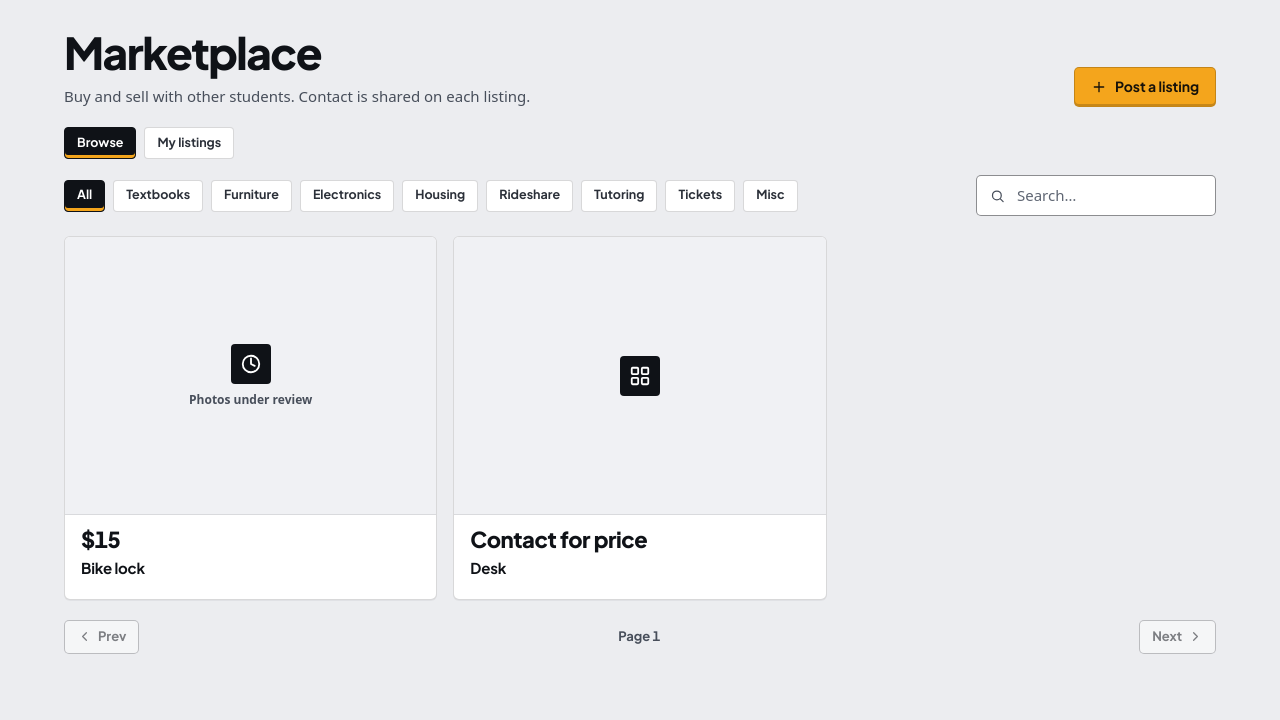
Test case: shows other students a placeholder instead of photos that wait for review, on the card and the detail
This screenshot has width=1280, height=720.
Expected: the text "Photos under review" is shown, x1=181 y1=392 x2=320 y2=407
Click the heading "Bike lock" at (113, 569), box x1=81 y1=559 x2=145 y2=579
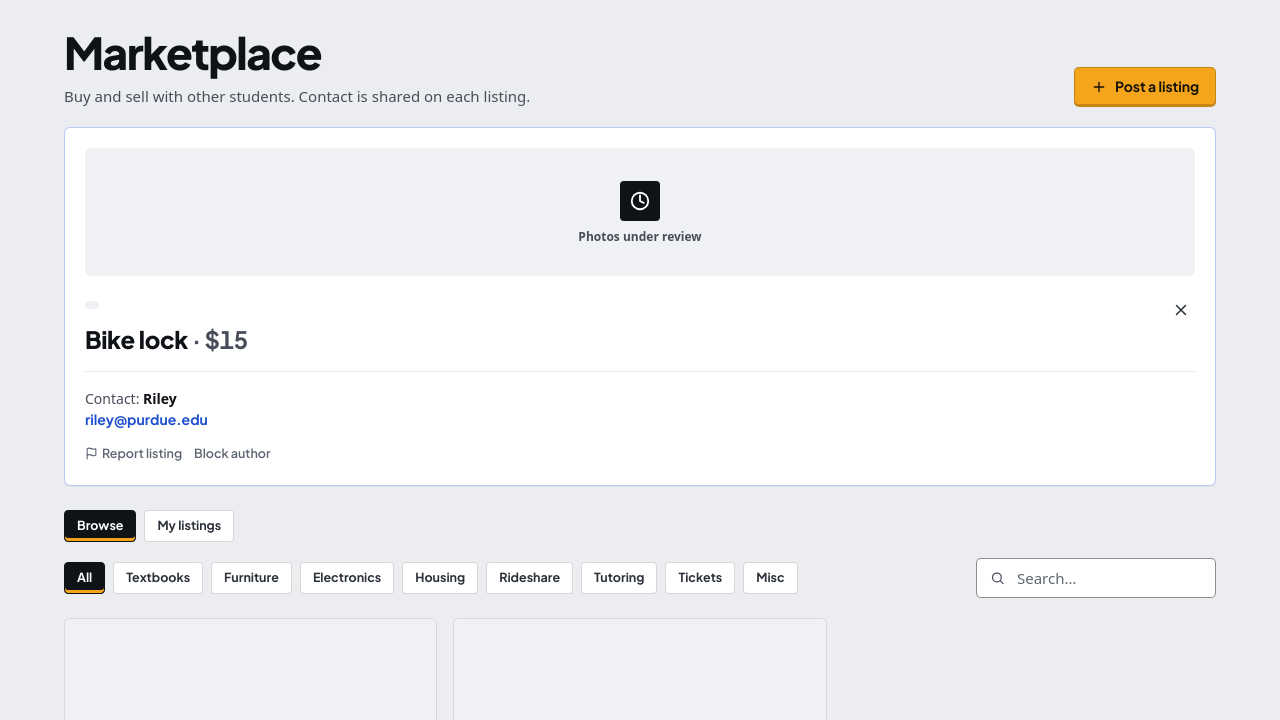
Expected: the text "Photos under review" is shown, x1=570 y1=229 x2=710 y2=244
